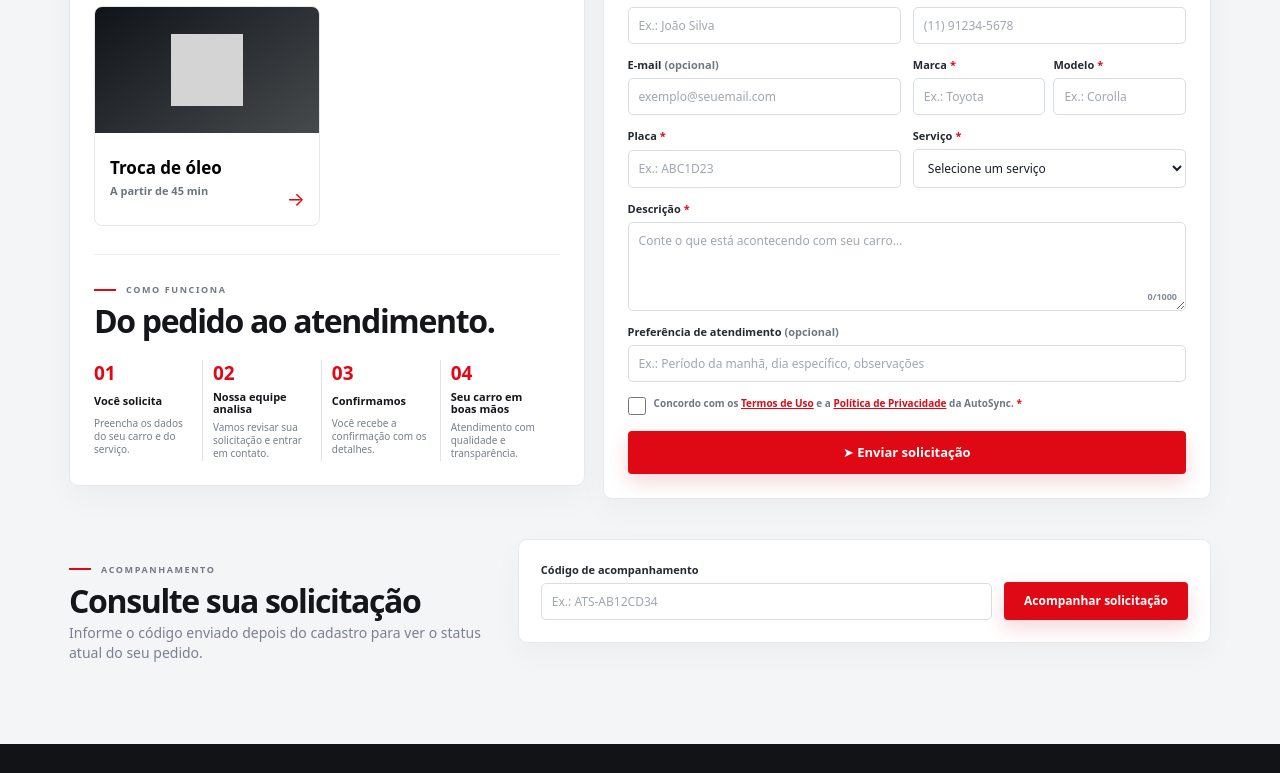
Test: visitor can track a request with the received code
The width and height of the screenshot is (1280, 773).
(page scrolled)
Step 1. Type "ats-ab12cd34" into the field labelled "Código de acompanhamento" → (766, 601), box [541,583,992,620]
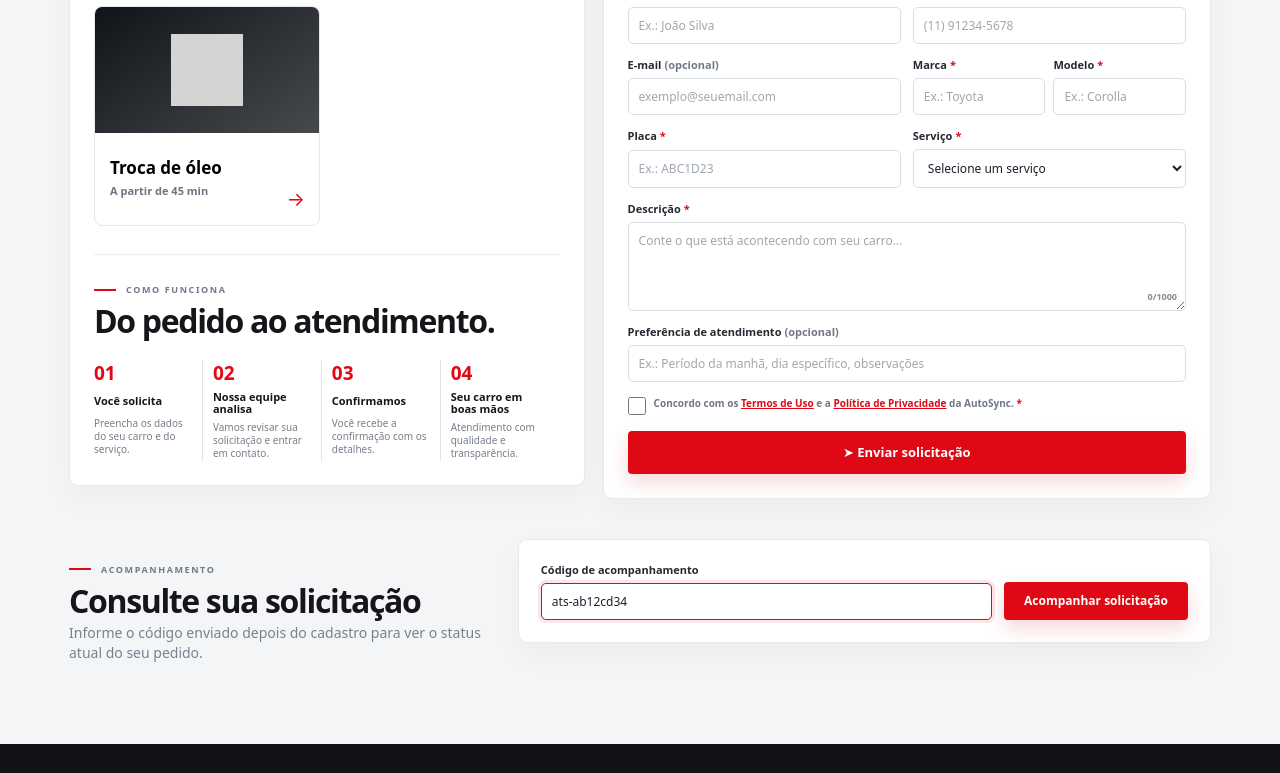
Step 2. Click the button "Acompanhar solicitação" → (1096, 601), box [1004,582,1188,620]
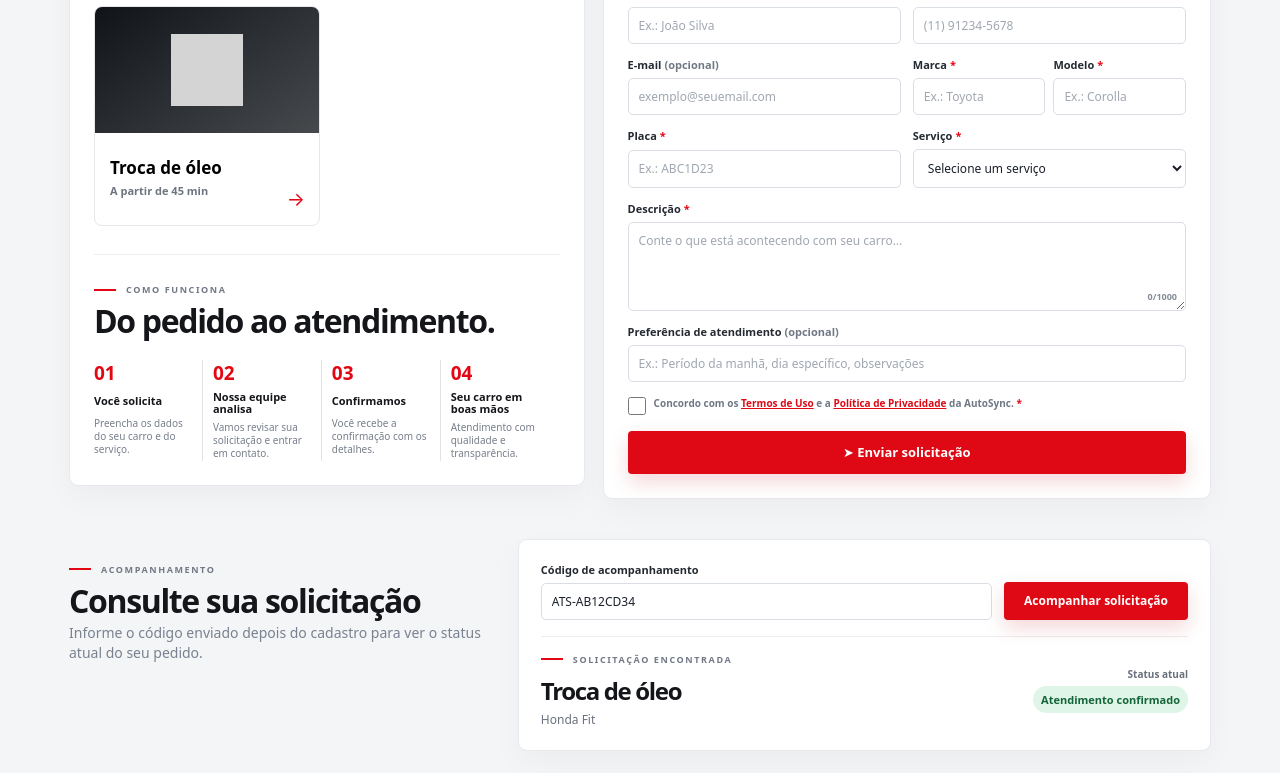
Now the text "Atendimento confirmado" is shown, box [1033,686,1188,713]
Now the text "Honda Fit" is shown, box [541,711,595,728]
